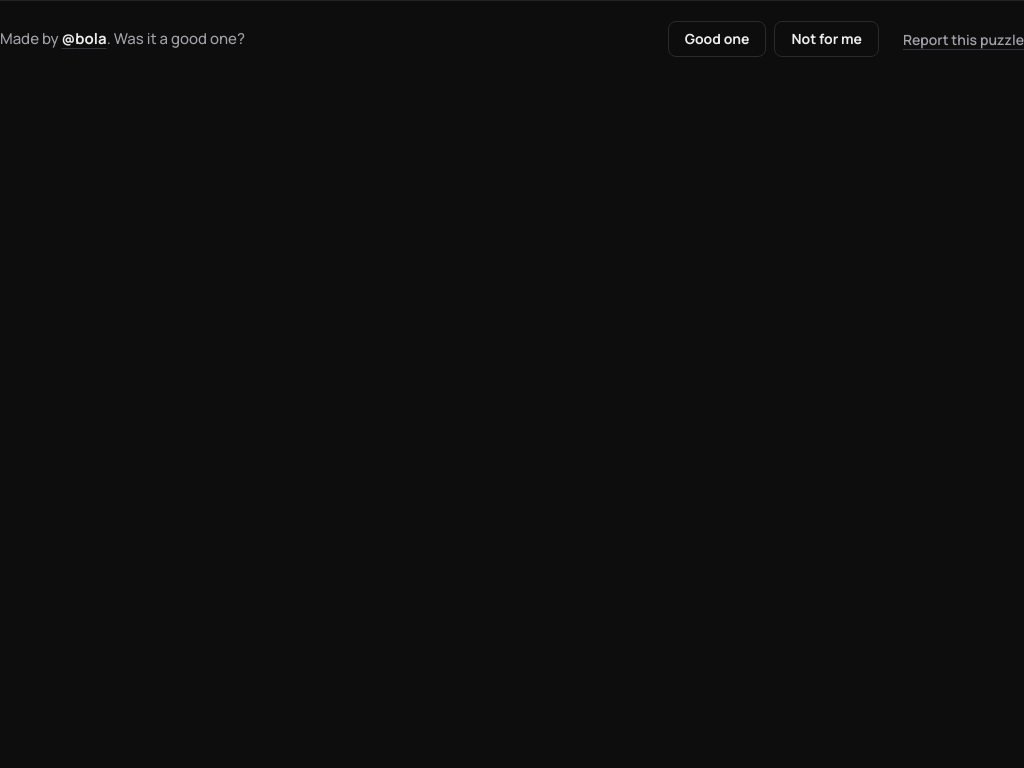
Test case: Report this puzzle › asks once, then says a calm line from the pool
The image size is (1024, 768).
Step 1. Click the button "Report this puzzle" → (964,39), box 903,30 -> 1023,48
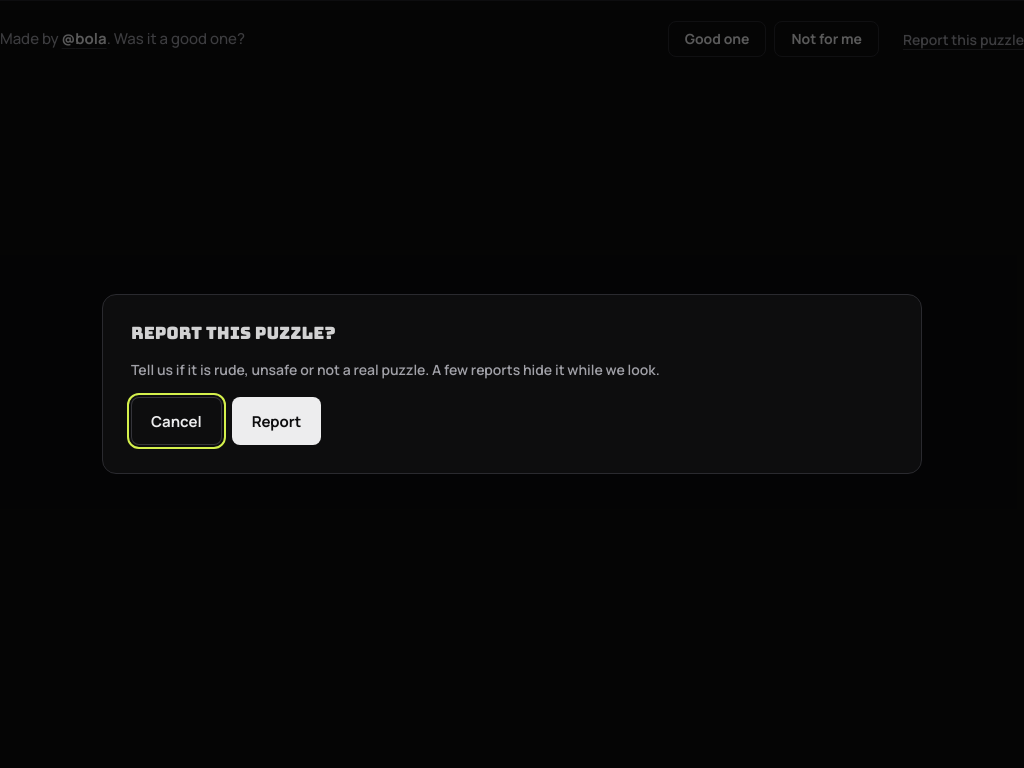
Step 2. Click the button "Report" → (276,421), box 232,397 -> 321,445
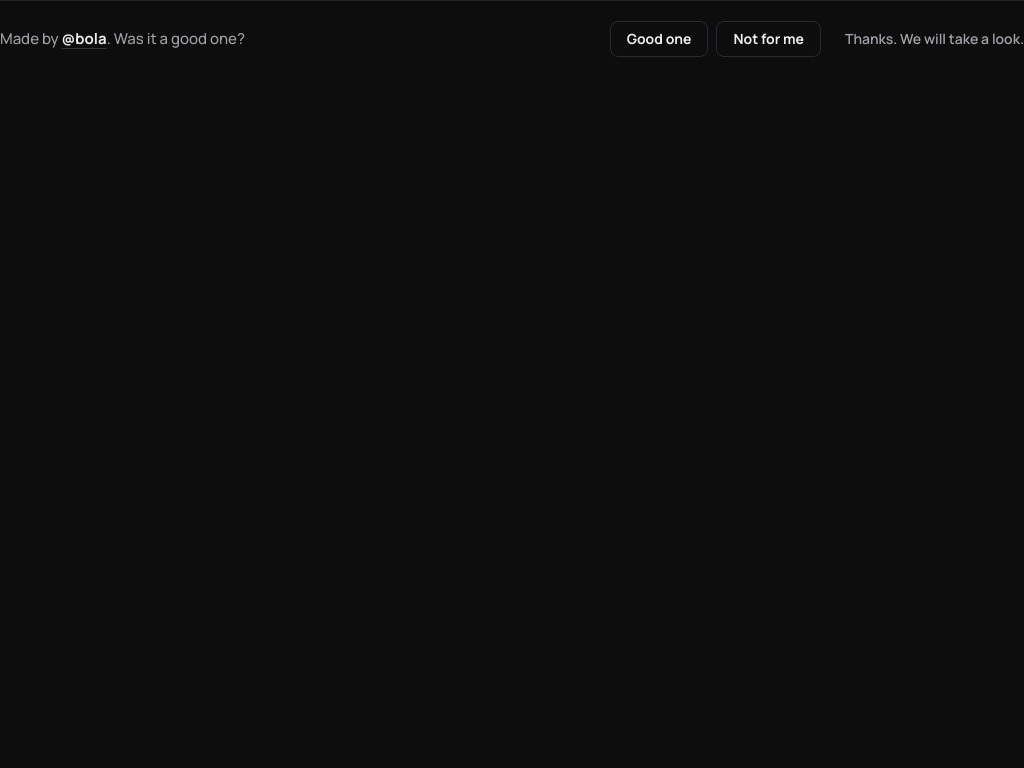
Result: the button "Report this puzzle" is gone
